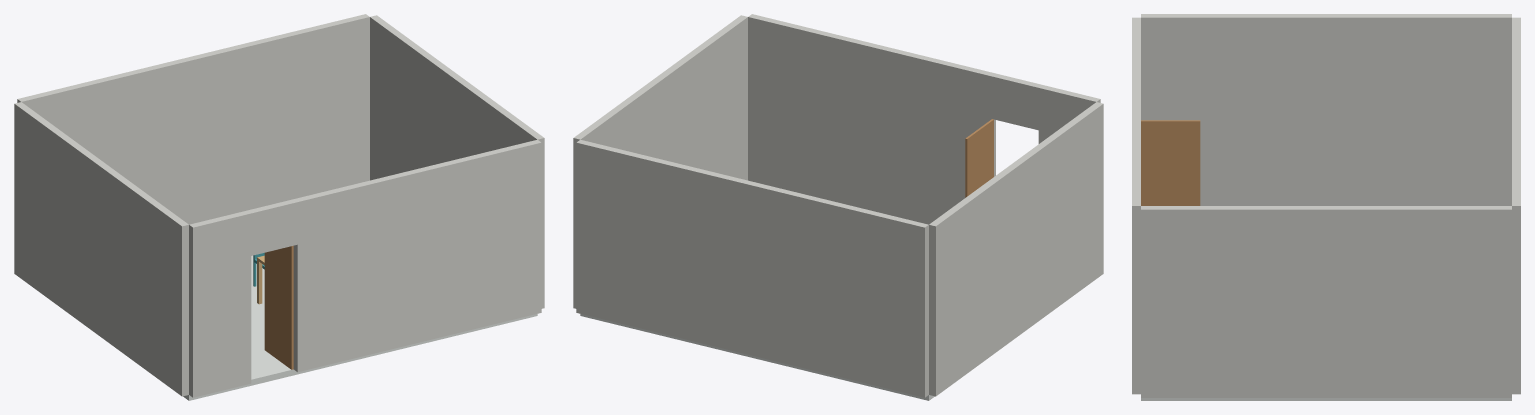
3 renders of one model, left to right at view 1: azimuth 30°, elevation 25°; view 2: azimuth 150°, elevation 25°; view 3: azimuth 270°, elevation 25°, orthographic. The views are drawn at different scales.
Visible parts, largest first — view 1: room:south:full, room:north:high, room:west:full, room:east:full, room:north:low, door:leaf, room:floor, room:north:lintel; view 2: room:south:full, room:north:high, room:west:full, room:east:full, room:north:lintel, room:north:low, door:leaf, room:floor; view 3: room:east:full, room:west:full, door:leaf, room:south:full, room:north:high, room:floor.
Boxes of the visible parts, <box> form: room:south:full: <box>17,14,369,224</box>; room:north:high: <box>293,139,541,372</box>; room:west:full: <box>14,102,188,396</box>; room:east:full: <box>370,15,544,308</box>; room:north:low: <box>189,210,251,397</box>; door:leaf: <box>264,245,293,369</box>; room:floor: <box>183,255,537,400</box>; room:north:lintel: <box>247,199,297,255</box>; room:south:full: <box>576,139,928,397</box>; room:north:high: <box>748,14,995,224</box>; room:west:full: <box>929,102,1103,396</box>; room:east:full: <box>573,15,747,308</box>; room:north:lintel: <box>992,73,1041,130</box>; room:north:low: <box>1038,85,1100,143</box>; door:leaf: <box>965,119,993,197</box>; room:floor: <box>580,314,934,400</box>; room:east:full: <box>1141,206,1511,397</box>; room:west:full: <box>1141,14,1511,205</box>; door:leaf: <box>1141,120,1200,205</box>; room:south:full: <box>1512,17,1520,394</box>; room:north:high: <box>1132,74,1140,394</box>; room:floor: <box>1141,398,1511,400</box>.
Bounding box in the file's own units: 6.24 × 2.9 × 5.24.
